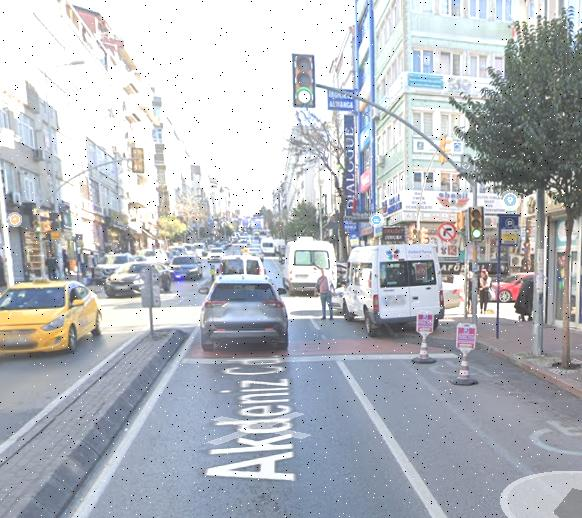greenlight: (290, 51, 316, 108), (470, 207, 482, 238)
rightturnsareforbidden: (439, 221, 457, 239)
